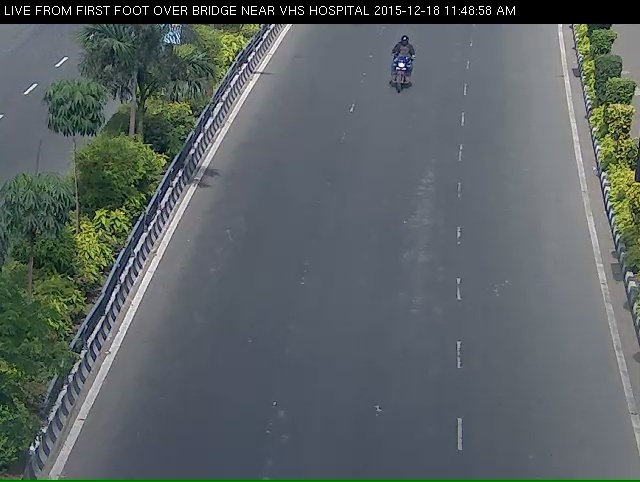Person: (380, 40, 418, 109)
